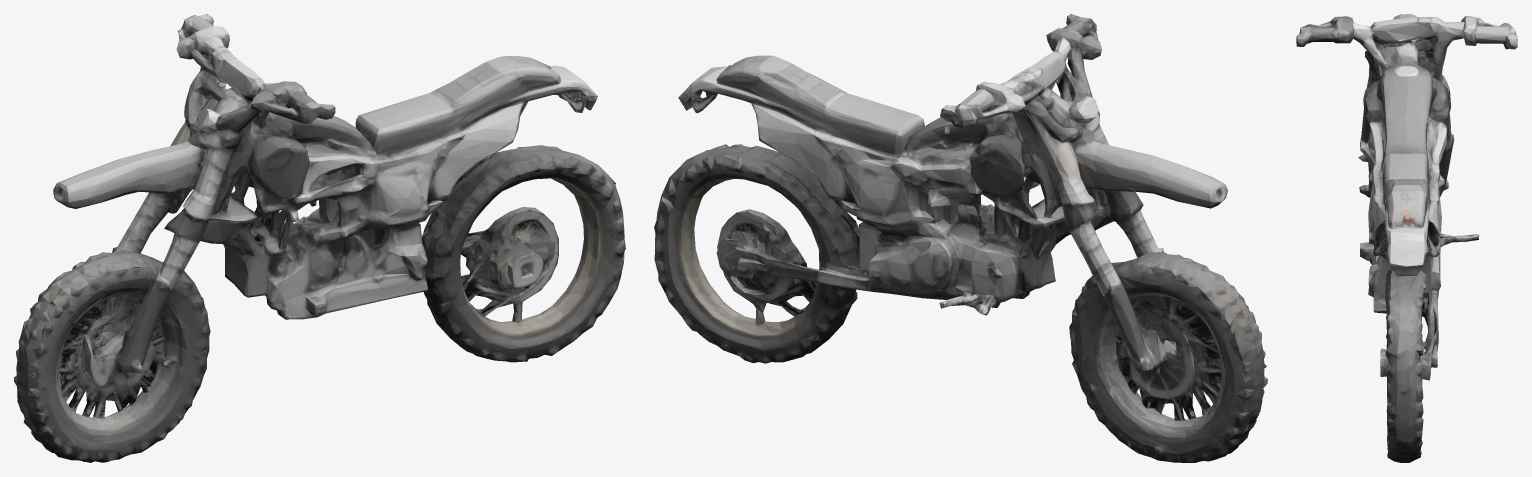
File: dirtbike.glb
3 views of the same model, side by side, from view 1: azimuth 30°, elevation 25°; view 2: azimuth 150°, elevation 25°; view 3: azimuth 270°, elevation 25° (orthographic). The views are drawn at different scales.
Parts seen in each view (by area): view 1: world; view 2: world; view 3: world.
Part boxes in pixels (left/top/right/bottom): world: left=14, top=14, right=625, bottom=462; world: left=654, top=14, right=1267, bottom=462; world: left=1296, top=14, right=1517, bottom=462.
Size of the model in its own units: 0.9999 by 0.587 by 0.3726.
Materials: 1 (1 with a texture image).
